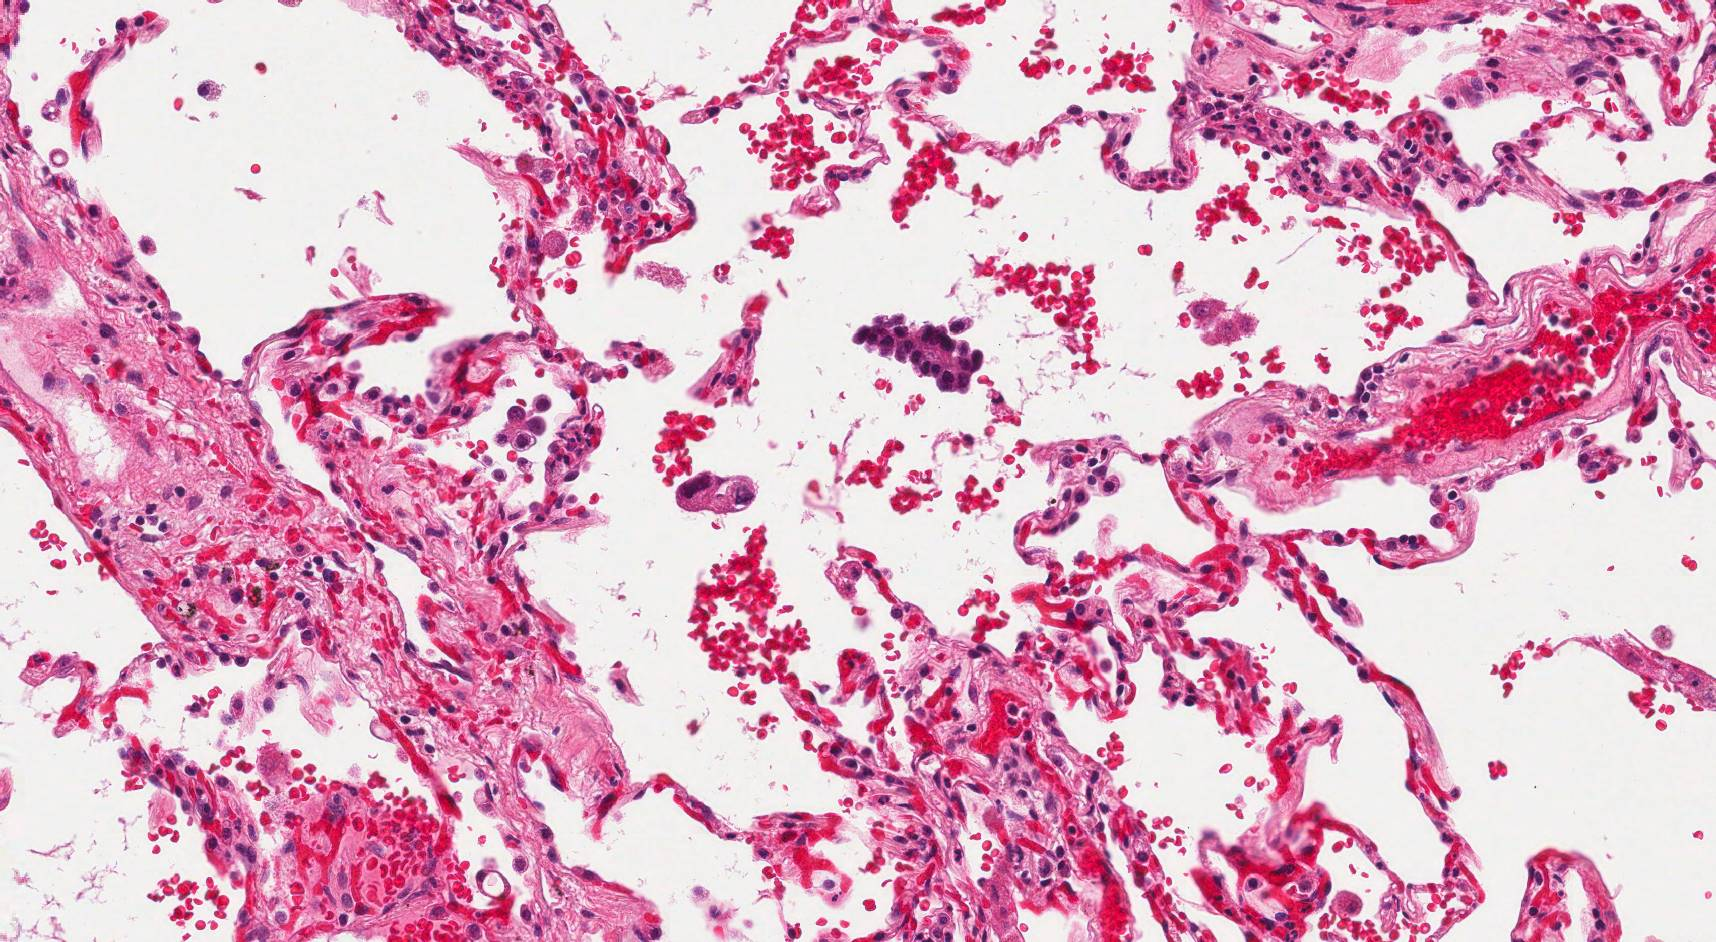stas: (852, 312, 986, 393), (675, 471, 761, 516), (493, 395, 552, 452)
